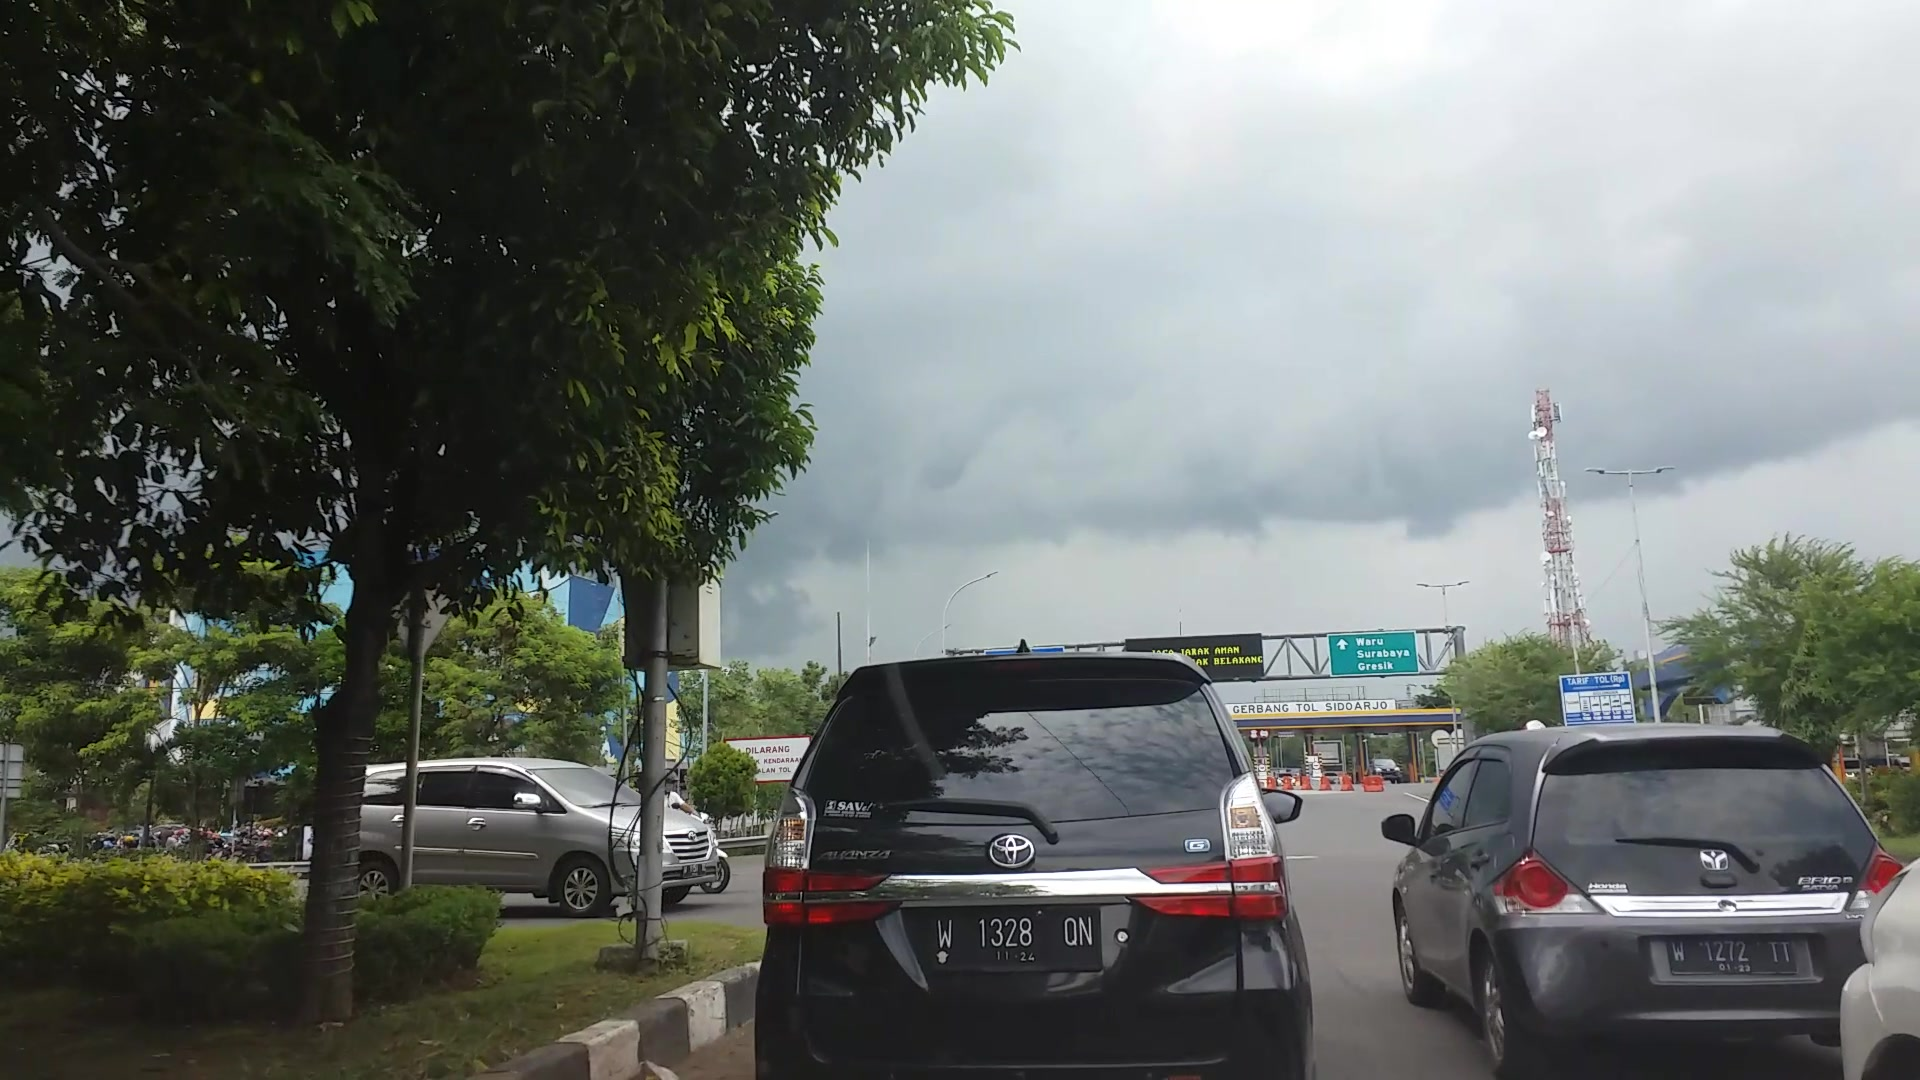plate_positive: (928, 907, 1102, 971), (1667, 938, 1796, 976)
